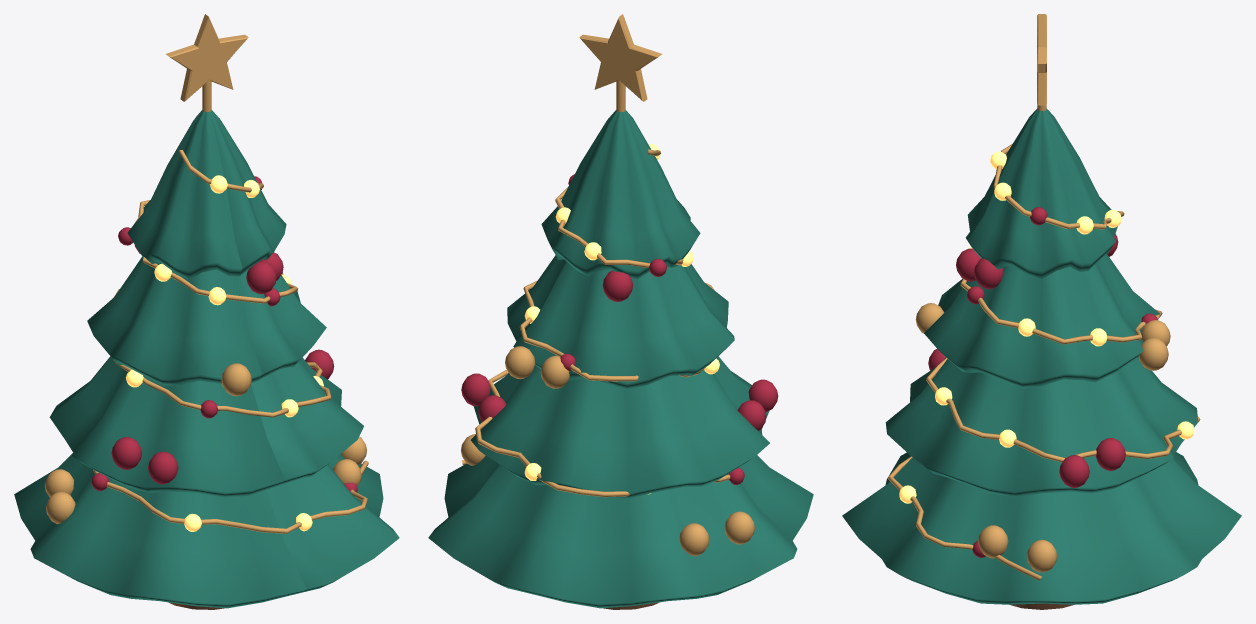
The model's file is storybook-christmas-market-grand-christmas-tree-7f114b50.glb.
3 renders of one model, left to right at view 1: azimuth 30°, elevation 25°; view 2: azimuth 150°, elevation 25°; view 3: azimuth 270°, elevation 25°, orthographic.
Visible parts, largest first — view 1: grand-christmas-tree; view 2: grand-christmas-tree; view 3: grand-christmas-tree.
Part boxes in pixels (box(x1,y1,x2,y2)): grand-christmas-tree: box(14, 14, 399, 609); grand-christmas-tree: box(428, 14, 813, 609); grand-christmas-tree: box(842, 14, 1241, 609).
Size of the model in its own units: 2.48 by 3.93 by 2.48.
